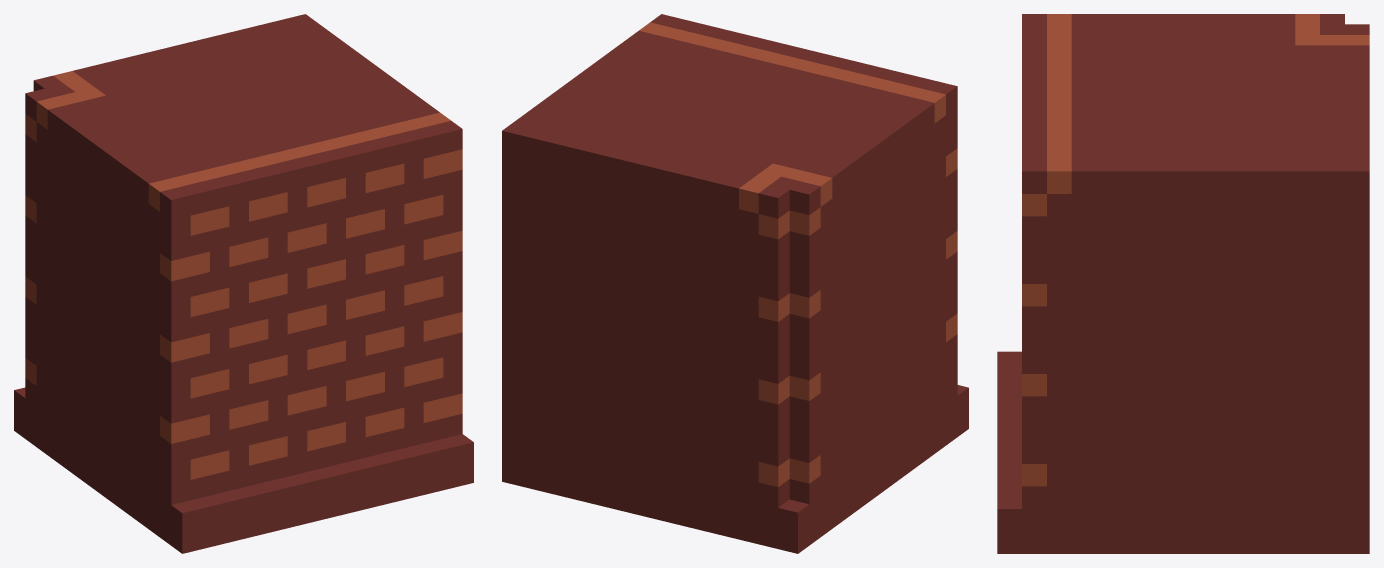
Rendered from dungeon_b_a_outer_wall_segment_c.obj.
3 views of the same model, side by side, from view 1: azimuth 30°, elevation 25°; view 2: azimuth 150°, elevation 25°; view 3: azimuth 270°, elevation 25° (orthographic). The views are drawn at different scales.
Size of the model in its own units: 1.5 by 1.7 by 1.5.
1 material, 1 textured.
